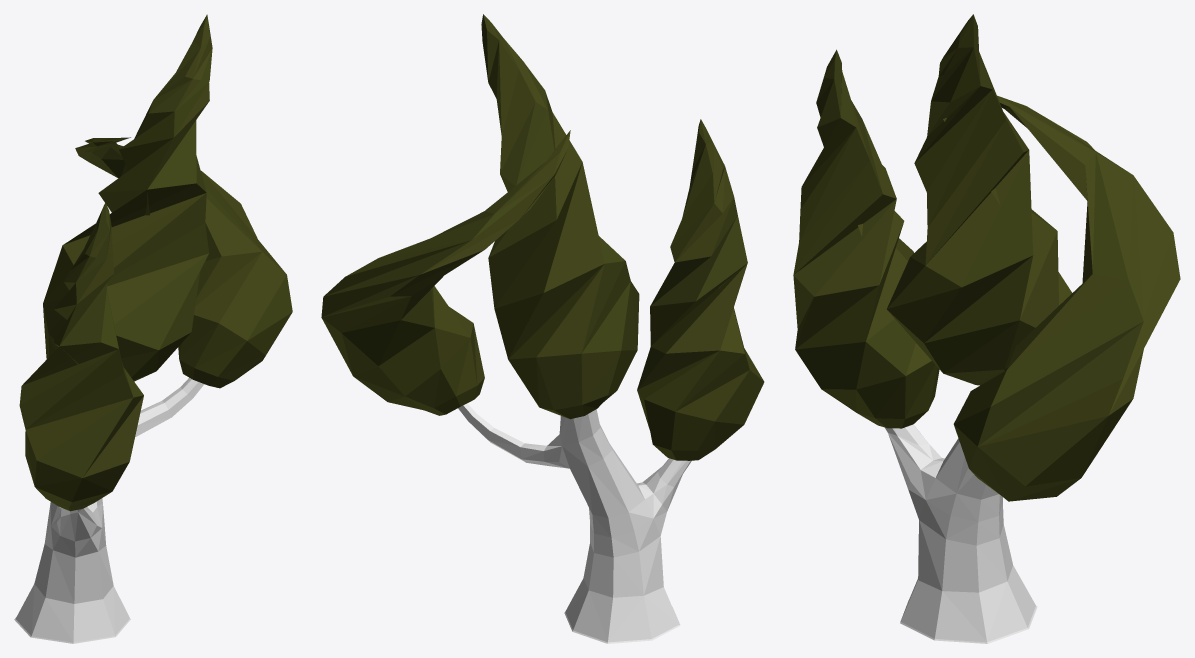
The model's file is tree_solid_08a.fbx.
3 renders of one model, left to right at view 1: azimuth 30°, elevation 25°; view 2: azimuth 150°, elevation 25°; view 3: azimuth 270°, elevation 25°, orthographic. The views are drawn at different scales.
Visible parts, largest first — view 1: tree_solid_08; view 2: tree_solid_08; view 3: tree_solid_08.
Part boxes in pixels (x1,y1,x2,y2): tree_solid_08: [14, 14, 292, 643]; tree_solid_08: [321, 14, 764, 643]; tree_solid_08: [793, 14, 1180, 643].
Bounding box in the file's own units: 5.51 × 9.11 × 4.7.
